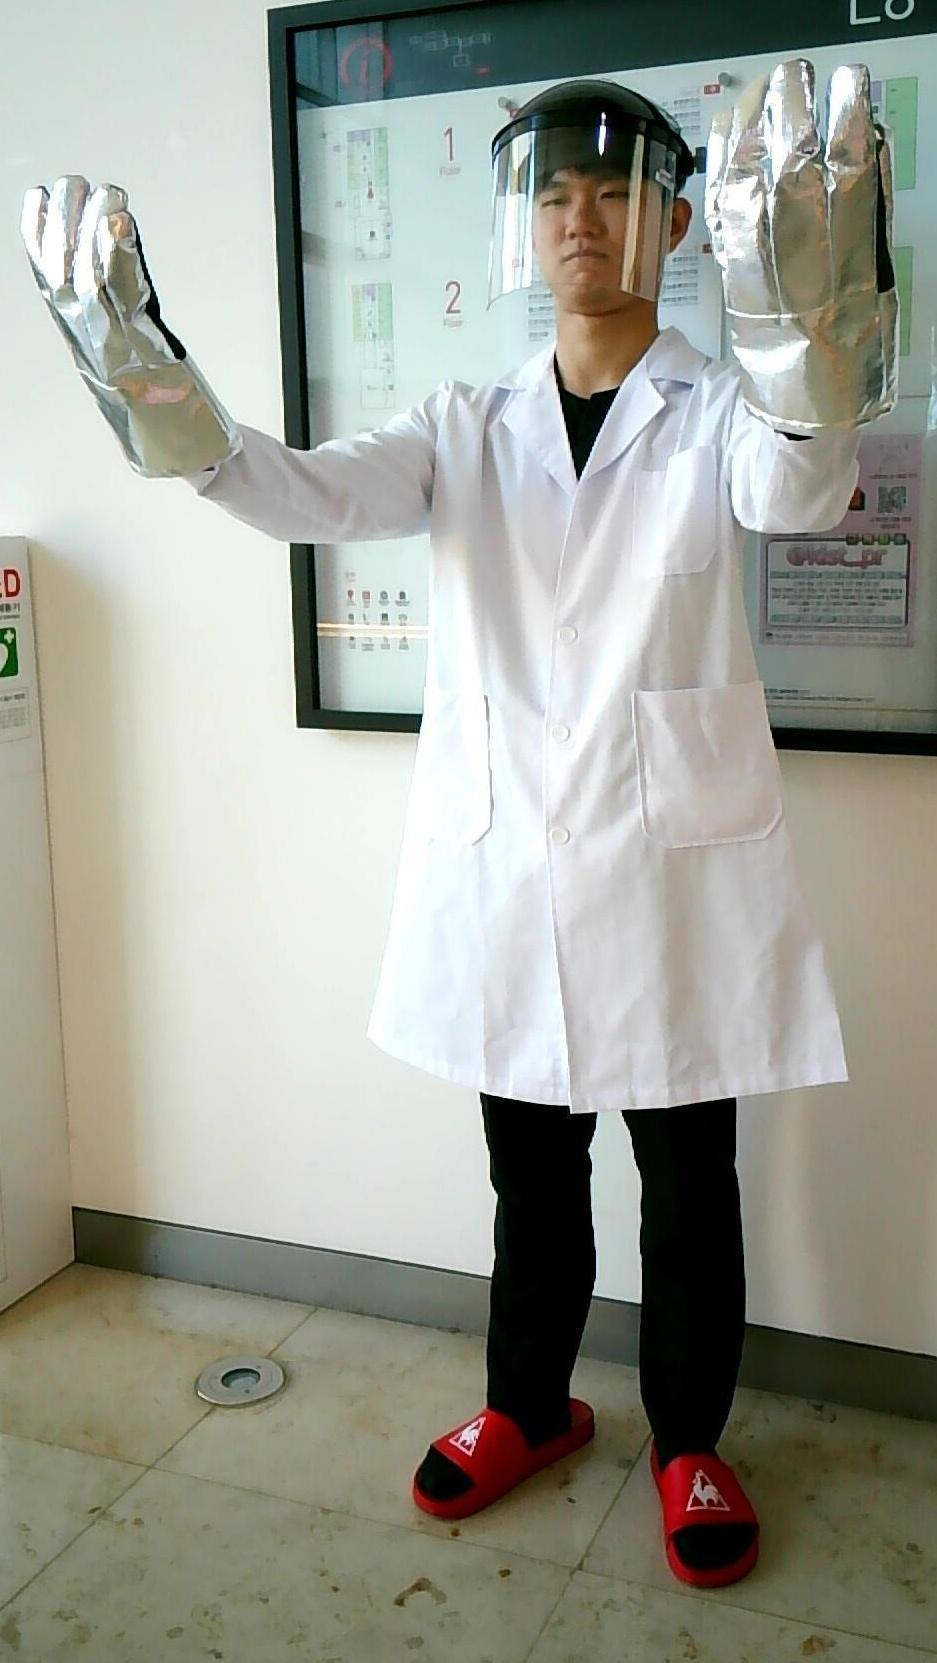lab_coat: (399, 371, 740, 1078)
